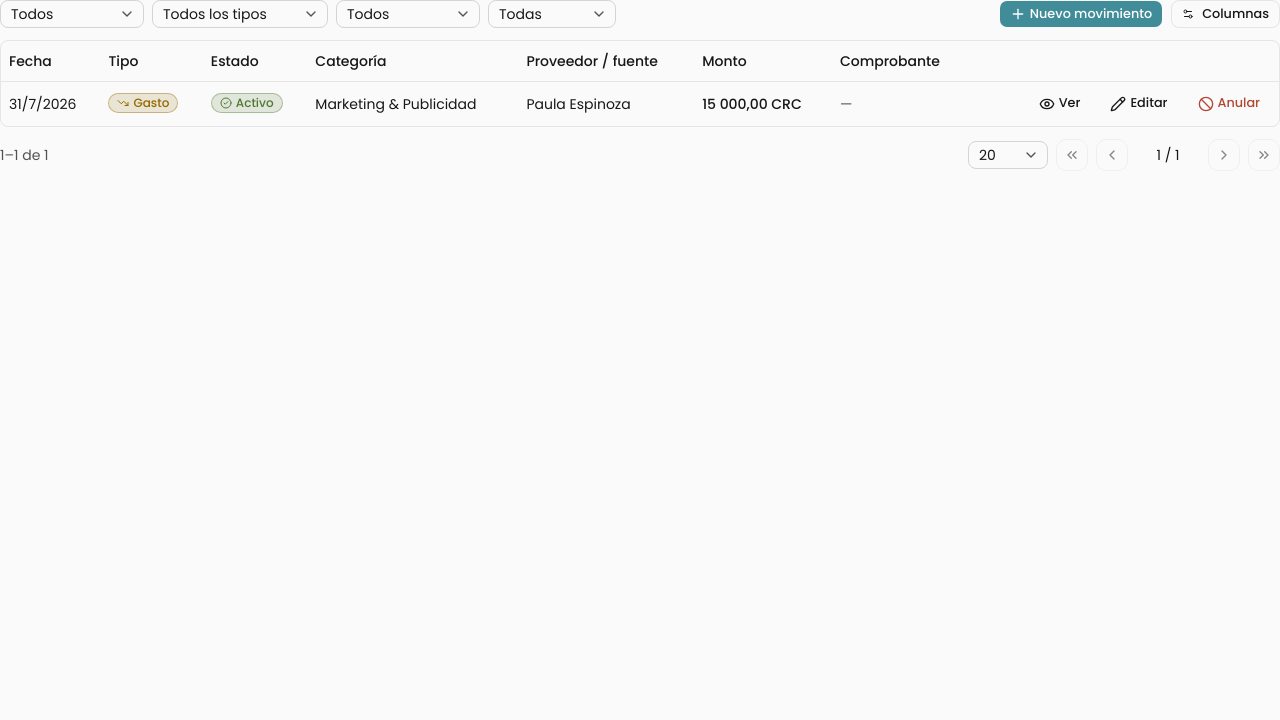
FinanceEntriesTable — el click en la fila abre el detalle, no la edición › el botón de anular de la fila no abre el detalle
What coordinates should you click on to do the following:
click the button "Anular"
I would click on:
 (1229, 104)
Its box is [1186, 90, 1271, 118].
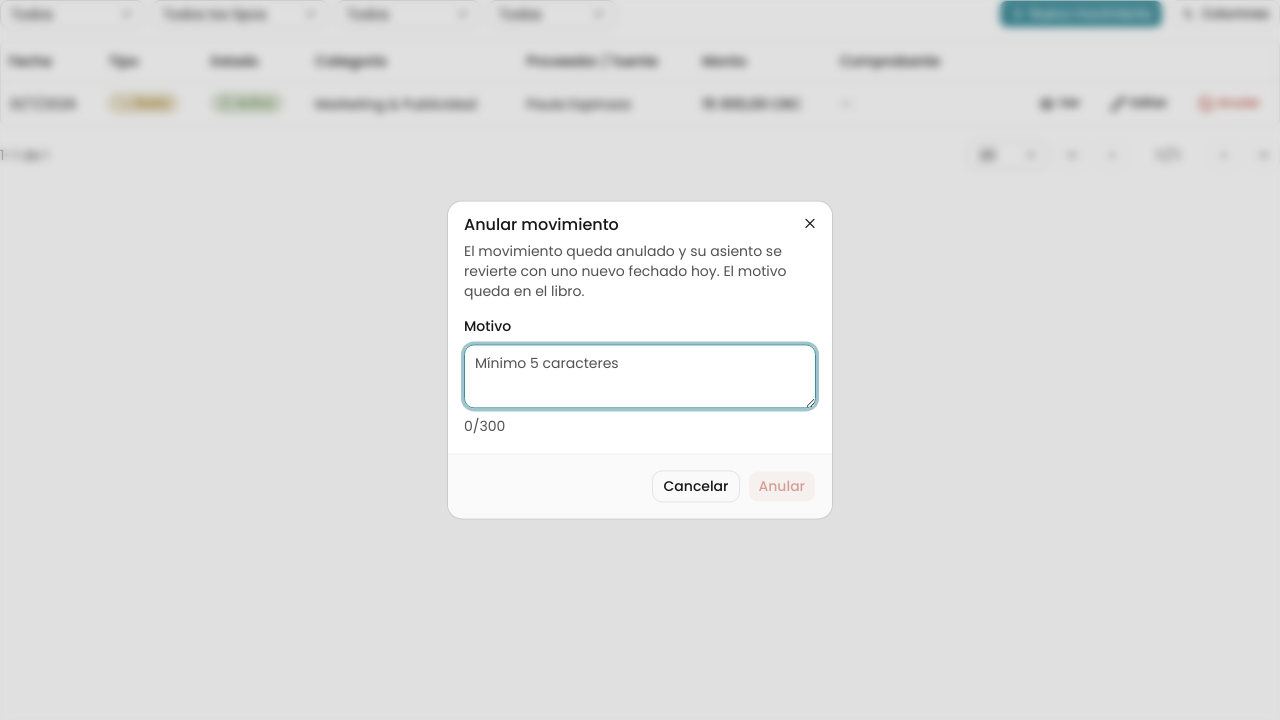
Expected: the heading "Anular movimiento" is shown, [464, 213, 619, 236]
